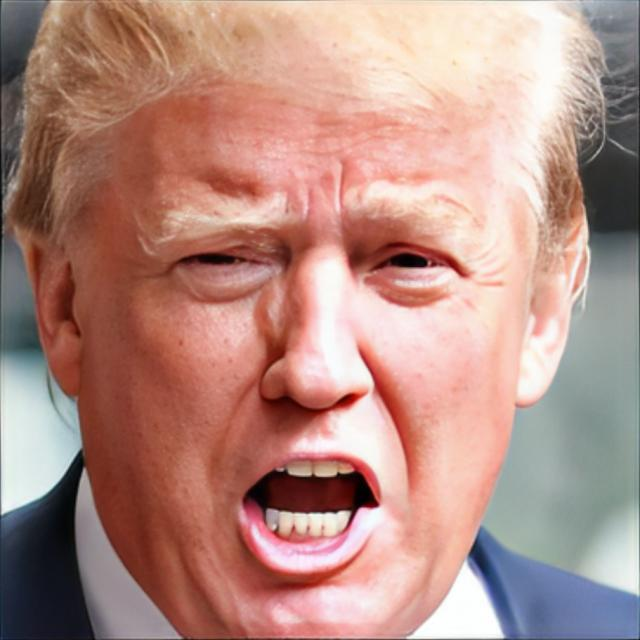anger: (84, 50, 524, 640)
